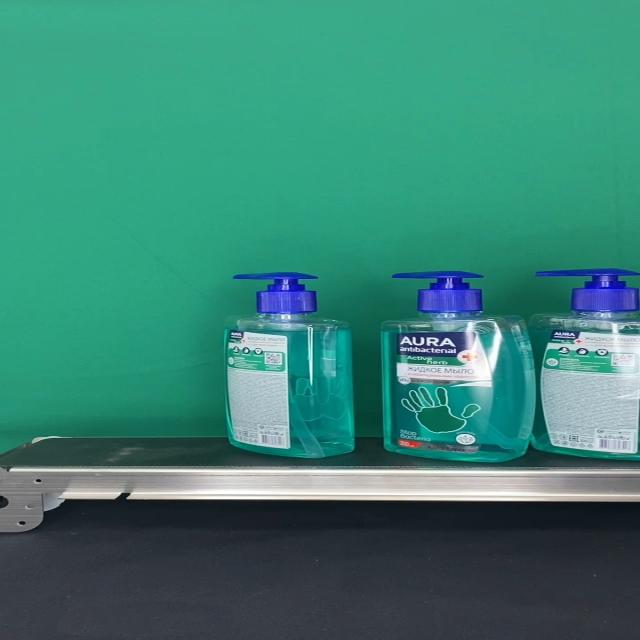Bottle: (380, 270, 537, 462), (221, 273, 355, 458), (529, 269, 640, 460)
Cap: (536, 269, 640, 312), (390, 271, 485, 314), (233, 273, 319, 314)
